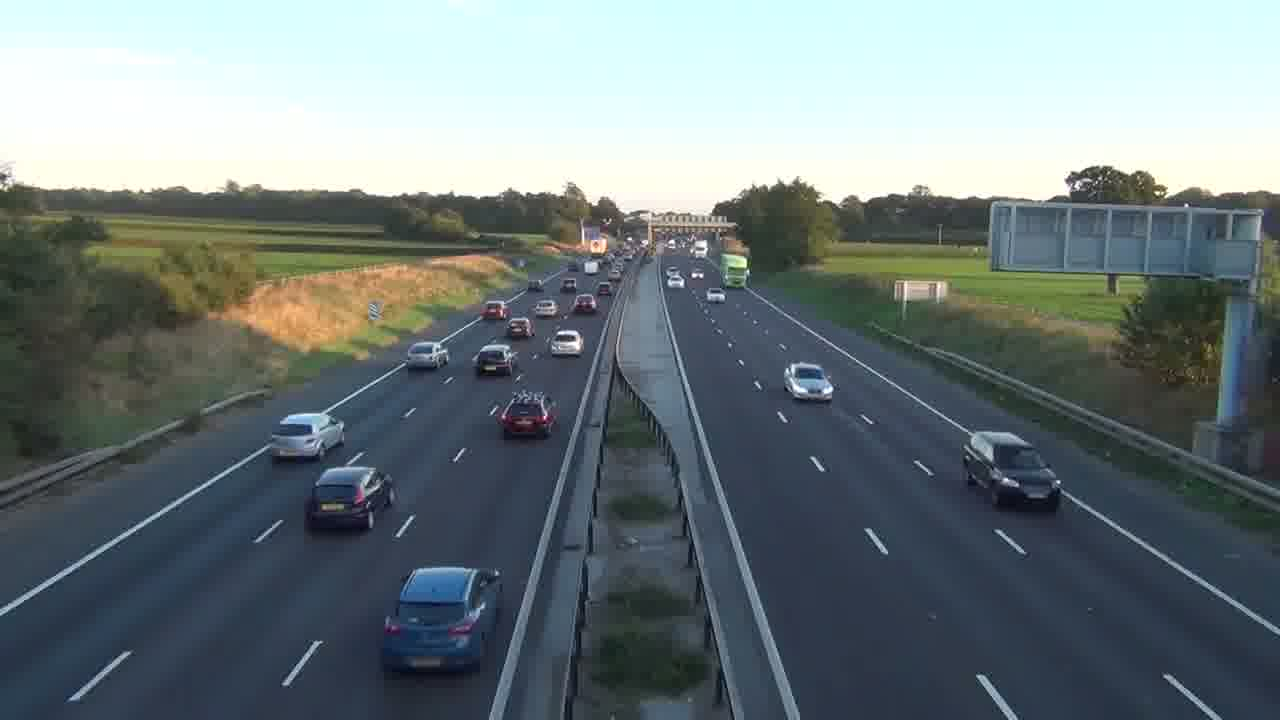car: (381, 564, 502, 674), (960, 430, 1062, 509), (304, 465, 397, 532), (268, 411, 346, 461), (496, 395, 559, 439), (783, 361, 834, 403), (473, 342, 517, 376), (406, 340, 449, 371), (549, 329, 584, 357), (572, 294, 597, 315)
